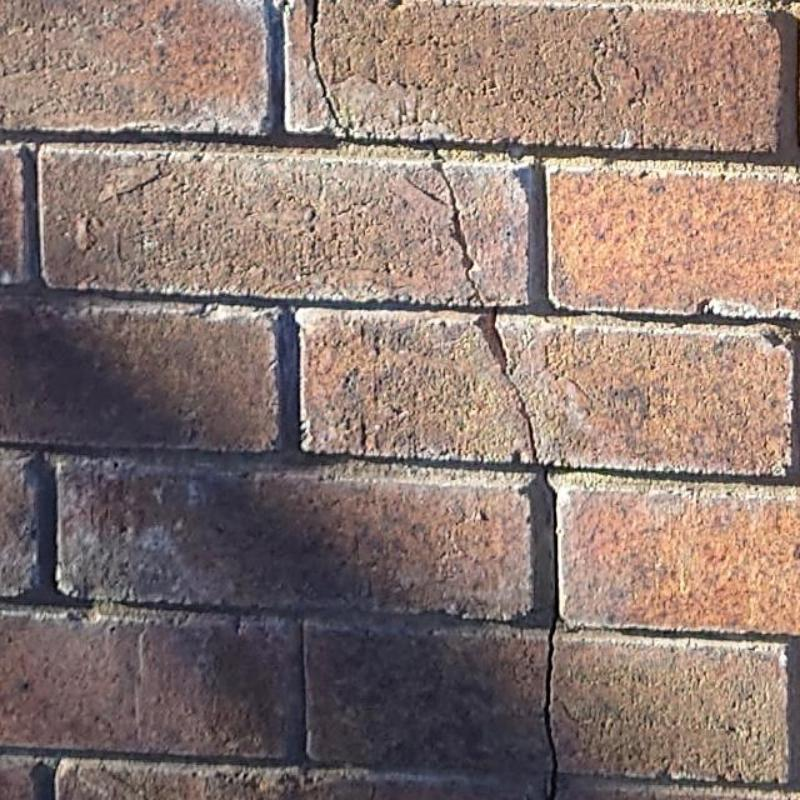pothole: (473, 312, 541, 467), (427, 142, 486, 310), (542, 463, 566, 800), (306, 0, 356, 140)
